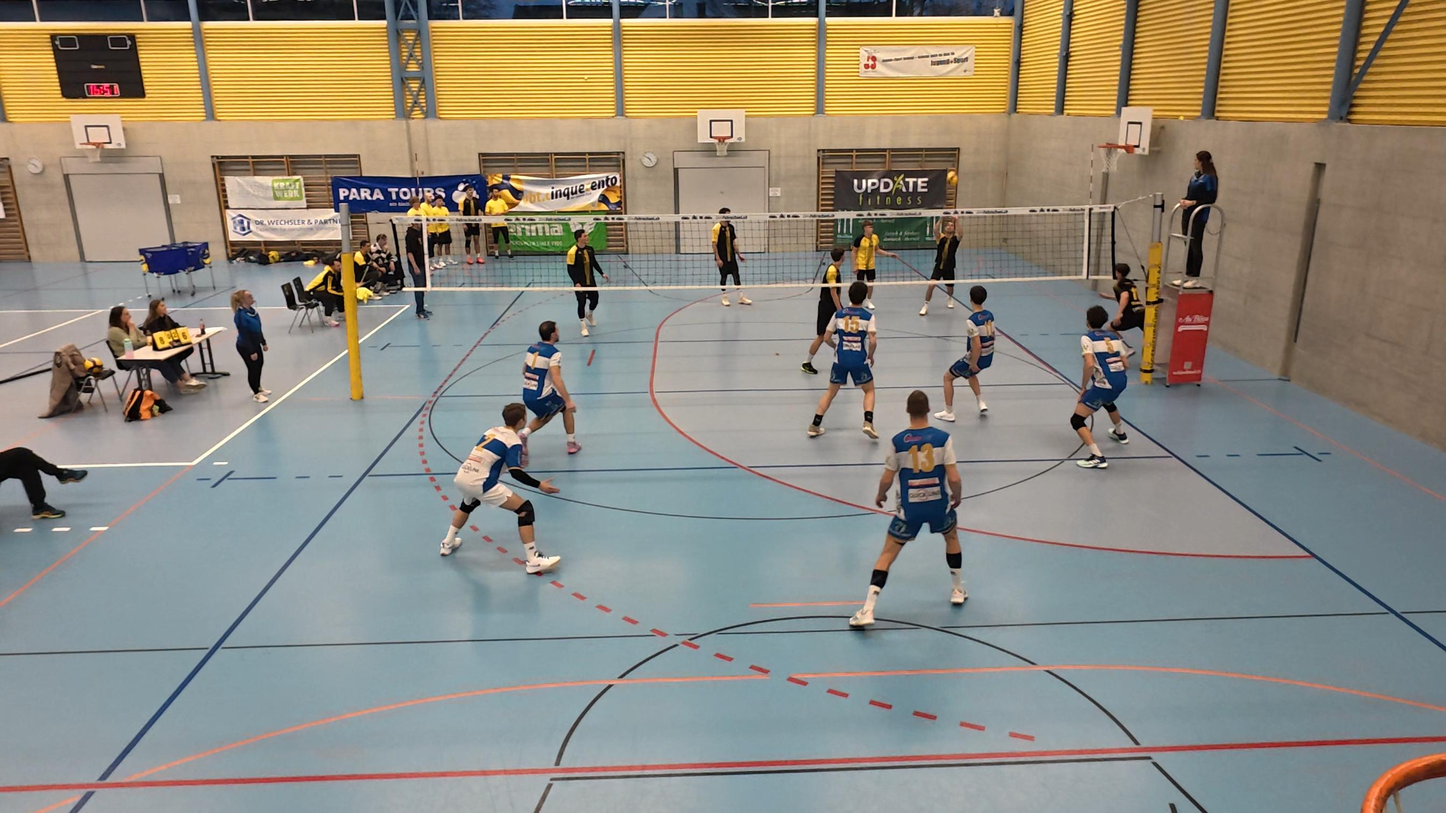Player: (847, 391, 968, 630), (438, 402, 563, 574), (807, 287, 879, 441), (1070, 313, 1127, 467), (518, 321, 580, 455), (939, 287, 997, 420), (1094, 257, 1151, 360), (799, 252, 845, 375), (565, 226, 606, 345), (712, 209, 750, 308), (851, 221, 881, 305)
Set: (915, 207, 958, 319)
ball: (947, 170, 962, 185)
